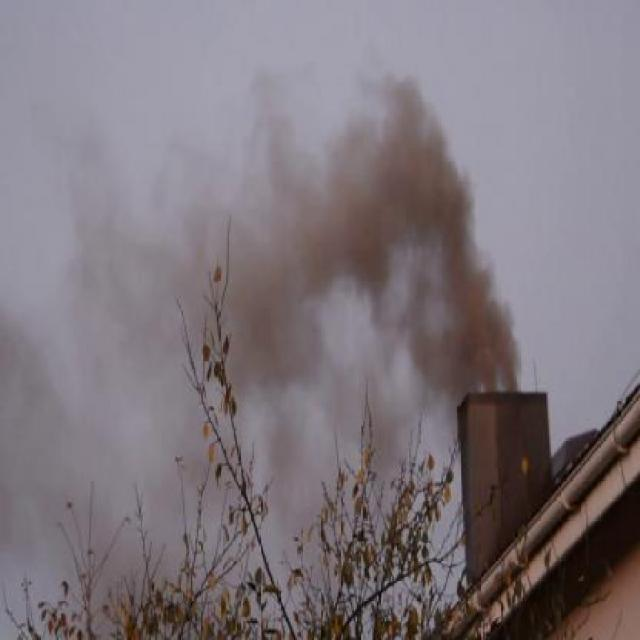smoke: (256, 64, 530, 390)
